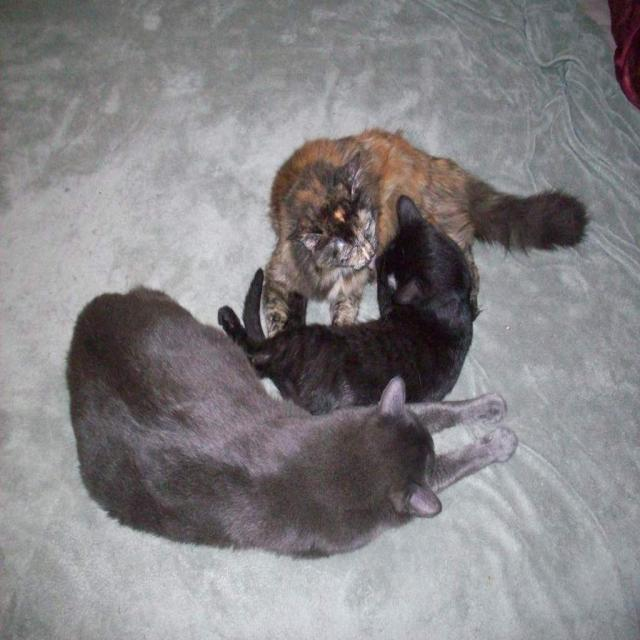Cat: (64, 285, 518, 561), (260, 122, 589, 336), (215, 193, 474, 414)
